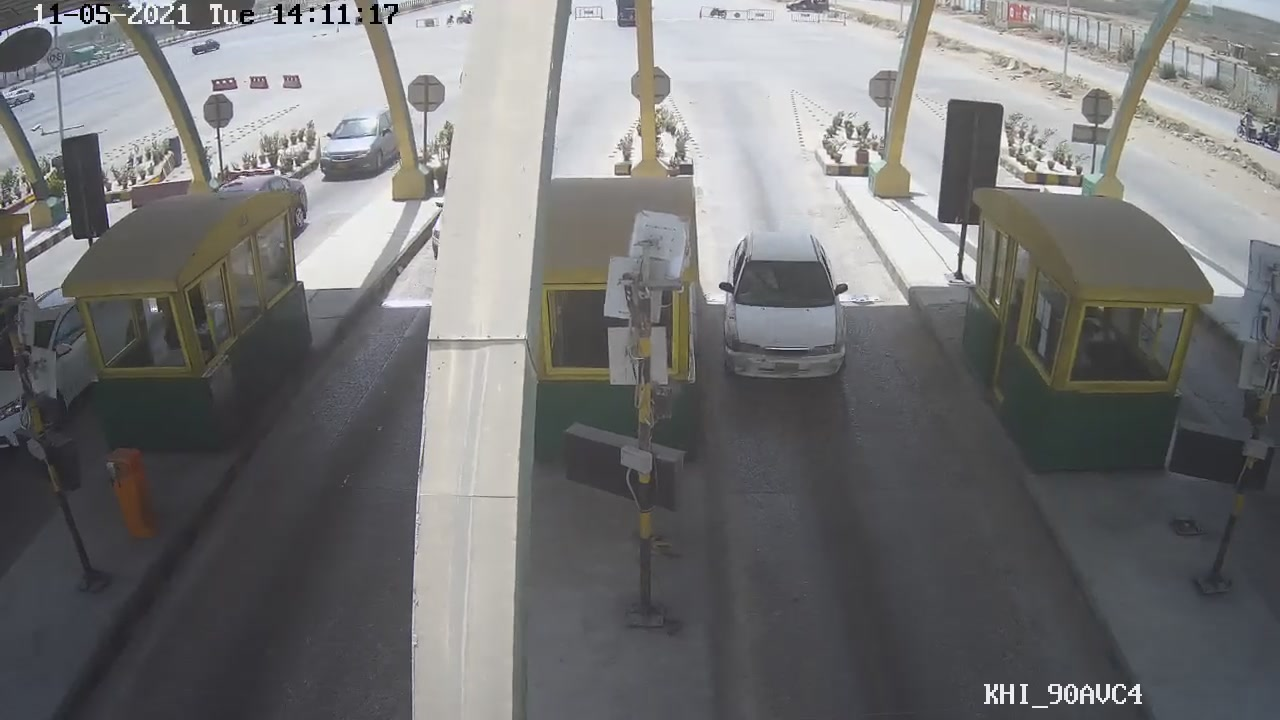F1: (713, 223, 859, 394)
